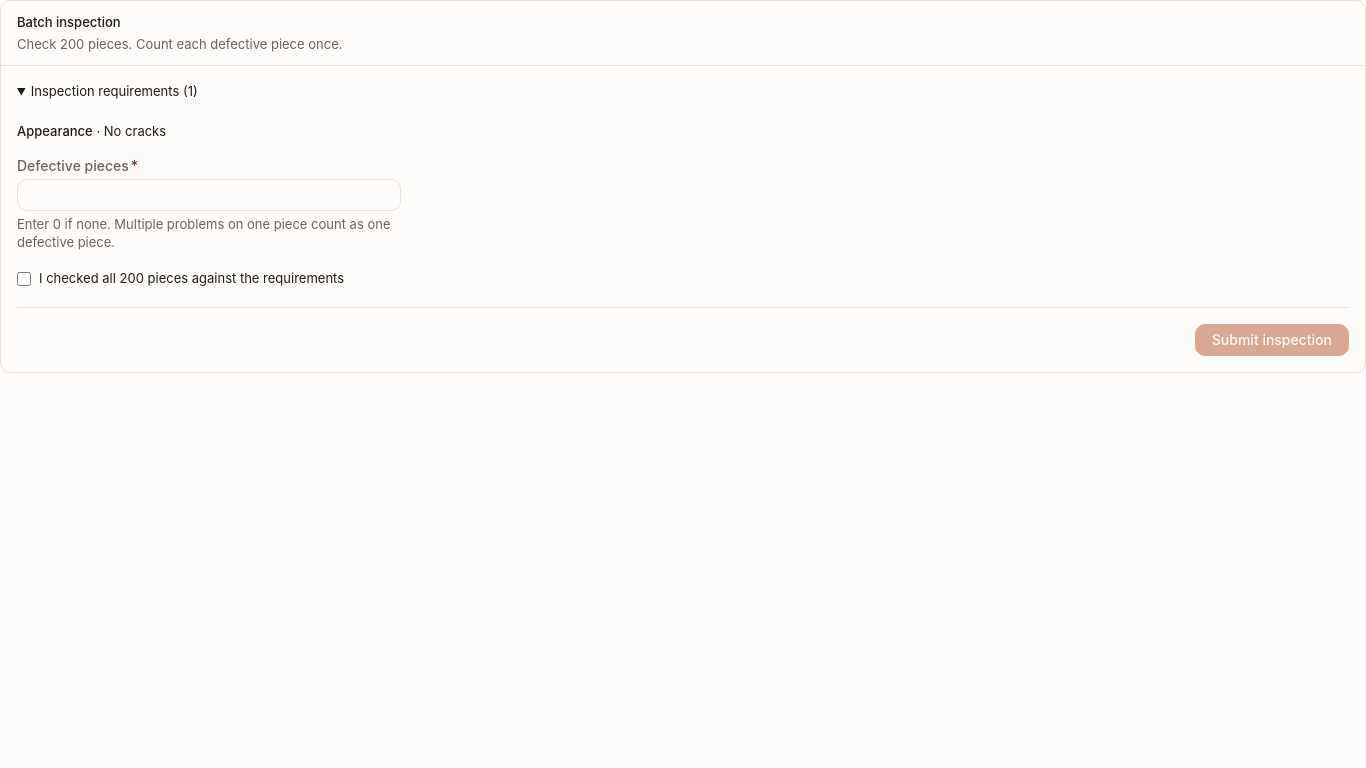
requires a problem for defective pieces and holds the entire batch
This screenshot has width=1366, height=768.
Type "2" into the number field labelled "Defective pieces" at (209, 195), box [18,180,400,210]
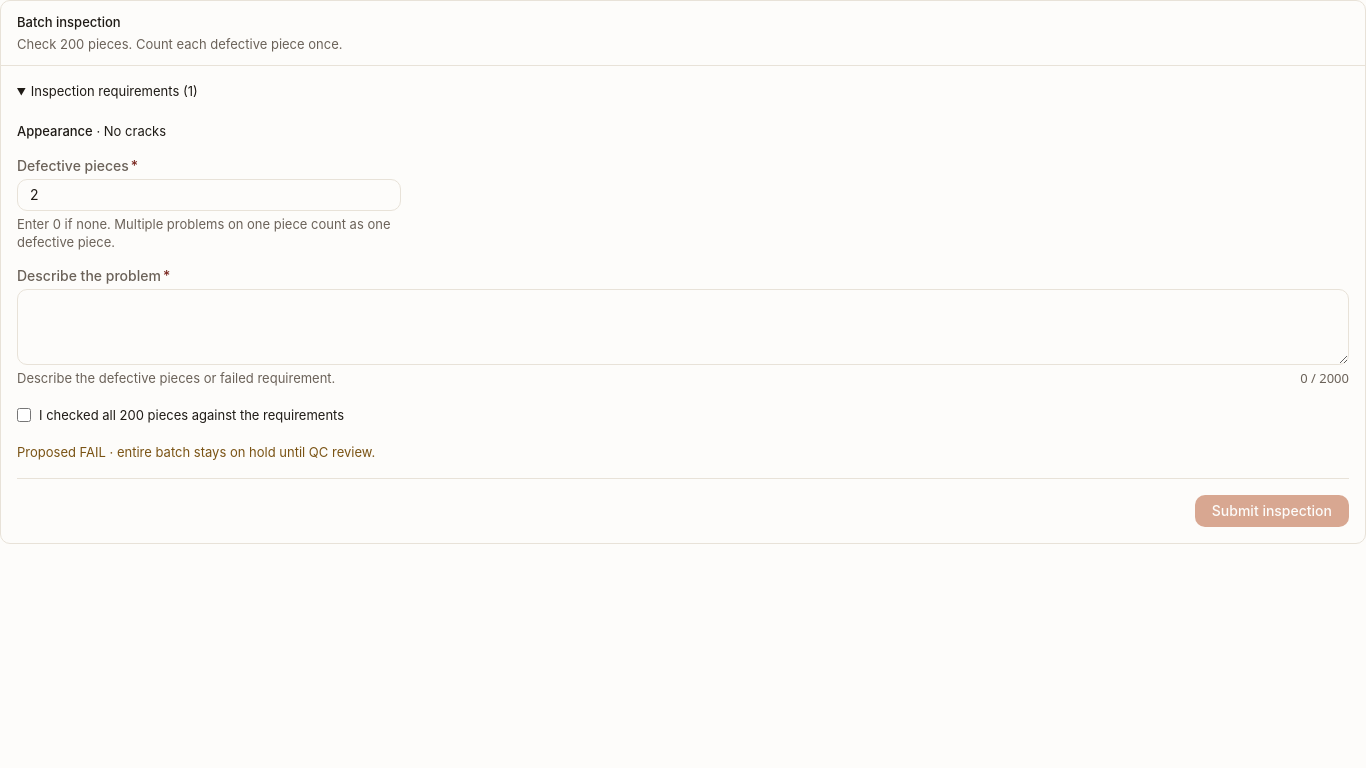
Click the checkbox labelled "I checked all 200 pieces against the requirements" at (24, 415), box [17,408,31,422]
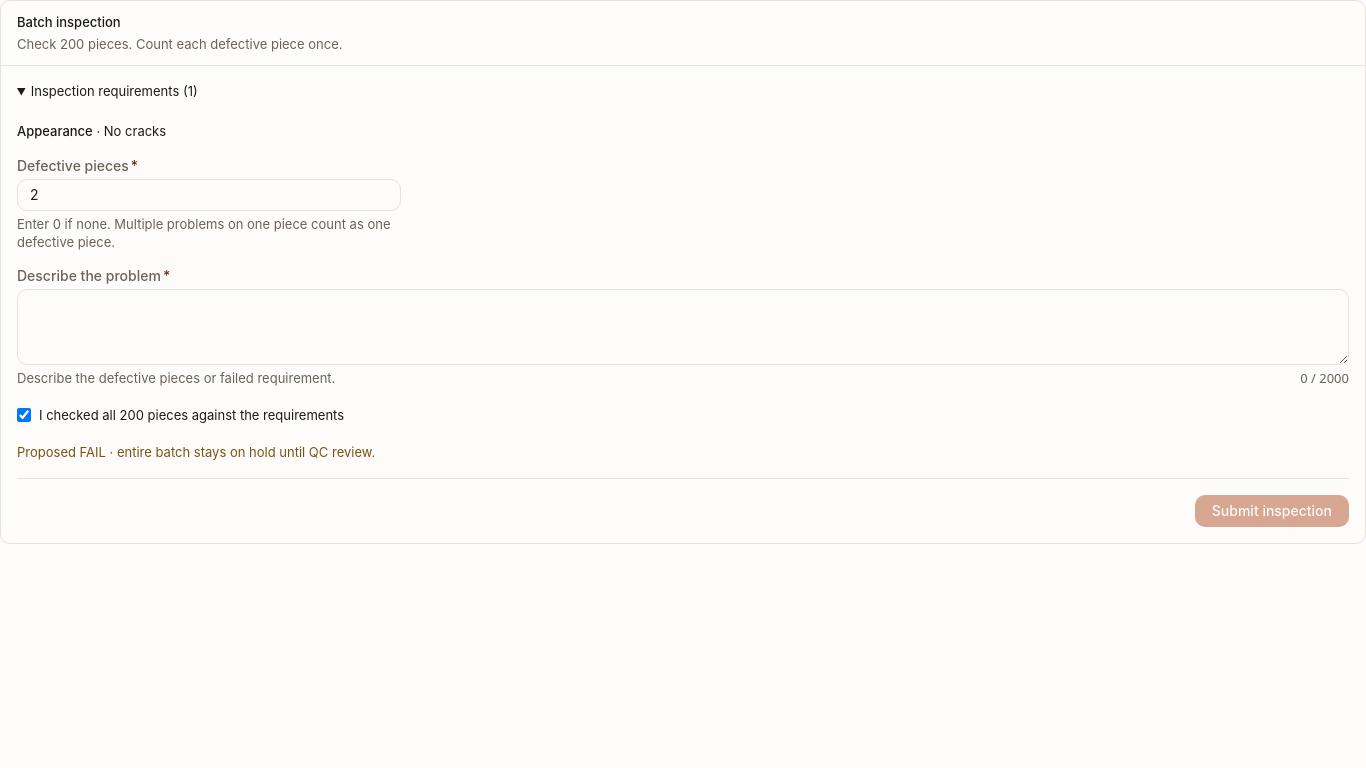
Check: the button "Submit inspection" is disabled, box [1195,494,1349,526]
Check: the text "Proposed FAIL · entire batch stays on hold until QC review." is shown, box [17,444,375,460]
Type "Two cracked pieces" into the text box labelled "Describe the problem" at (683, 327), box [17,289,1349,365]
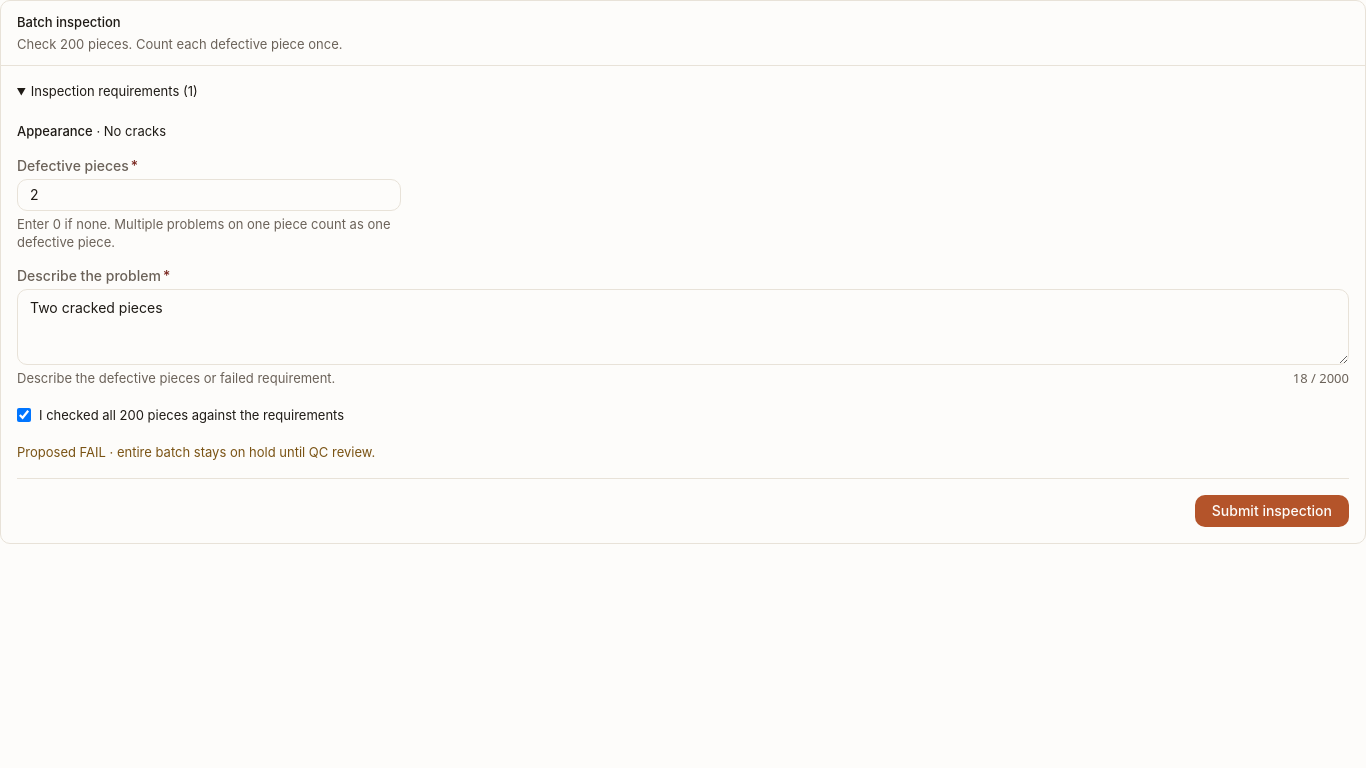
Check: the button "Submit inspection" is enabled, box [1195,494,1349,526]
